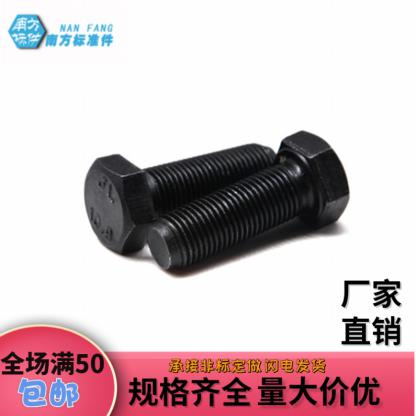FOD: (146, 128, 350, 274), (78, 142, 277, 258)
